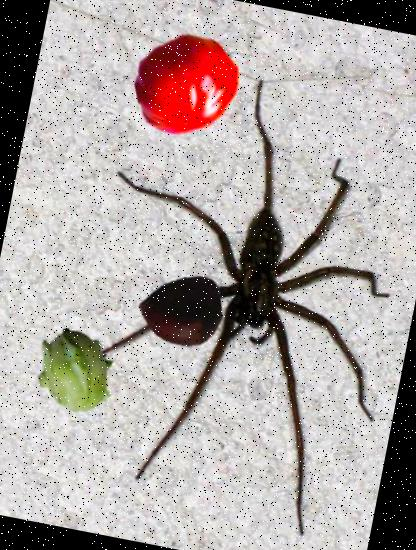Chestnut: (130, 263, 230, 363)
Kohlrabi: (25, 320, 126, 421)
Tomato: (125, 22, 249, 146)
